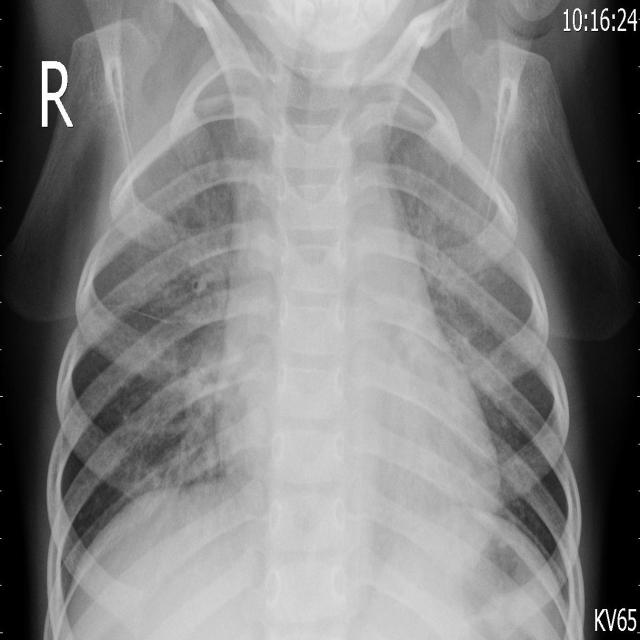low-pneumonia: (416, 181, 516, 420), (155, 367, 217, 496), (170, 214, 230, 329)
